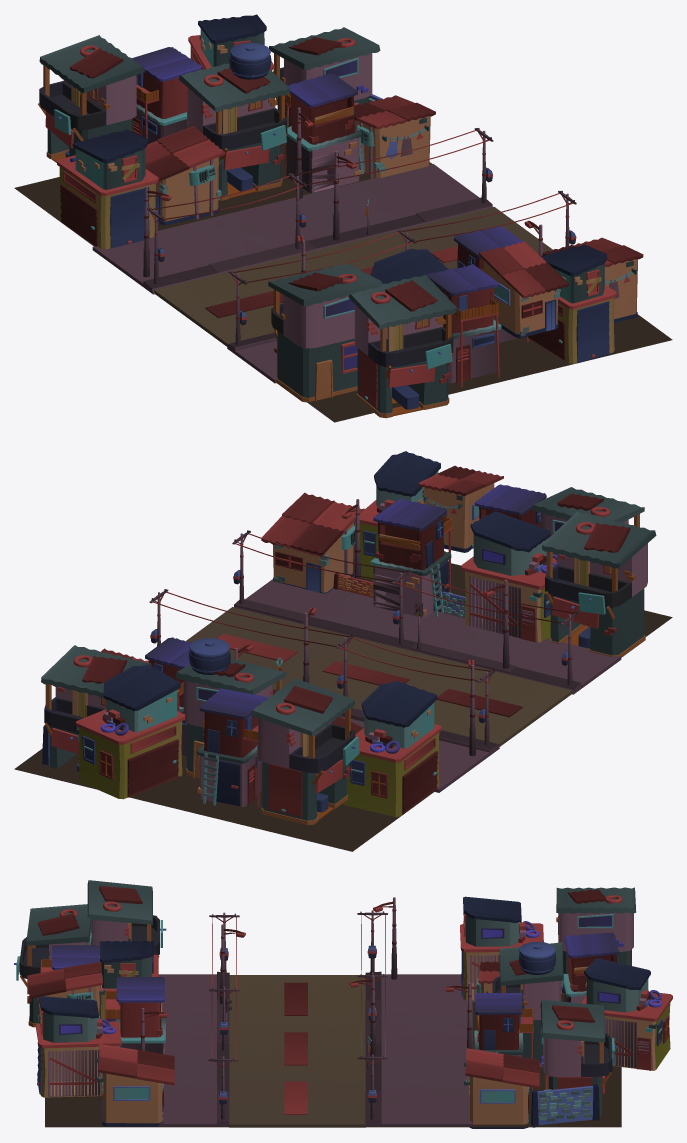
Rendered from Cenario_teste.fbx.
3 views of the same model, one above another, from view 1: azimuth 30°, elevation 25°; view 2: azimuth 150°, elevation 25°; view 3: azimuth 270°, elevation 25° (orthographic). The views are drawn at different scales.
Visible parts, largest first — view 1: group6; view 2: group6; view 3: group6.
Part boxes in pixels (x1=…): group6: x1=14, y1=14, x2=672, y2=422; group6: x1=14, y1=451, x2=672, y2=851; group6: x1=14, y1=880, x2=672, y2=1128.
Size of the model in its own units: 2490 by 1005 by 4549.
